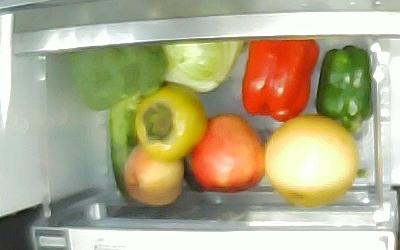apple: (186, 112, 266, 191)
broccoli: (70, 44, 164, 110)
cucumber: (109, 92, 138, 196)
grapefruit: (265, 114, 358, 207)
lettuce: (161, 40, 242, 90)
paprika: (241, 39, 320, 122), (314, 44, 373, 132)
peach: (122, 141, 184, 208)
persimmon: (136, 86, 206, 162)
